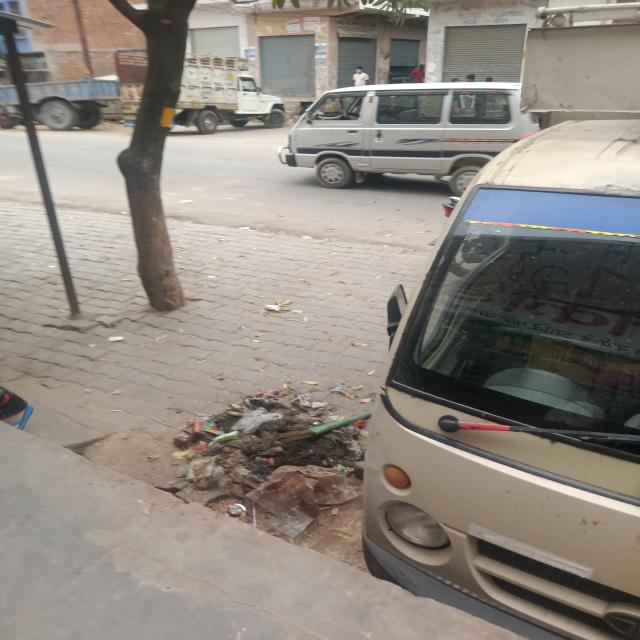Car: (278, 82, 538, 194)
